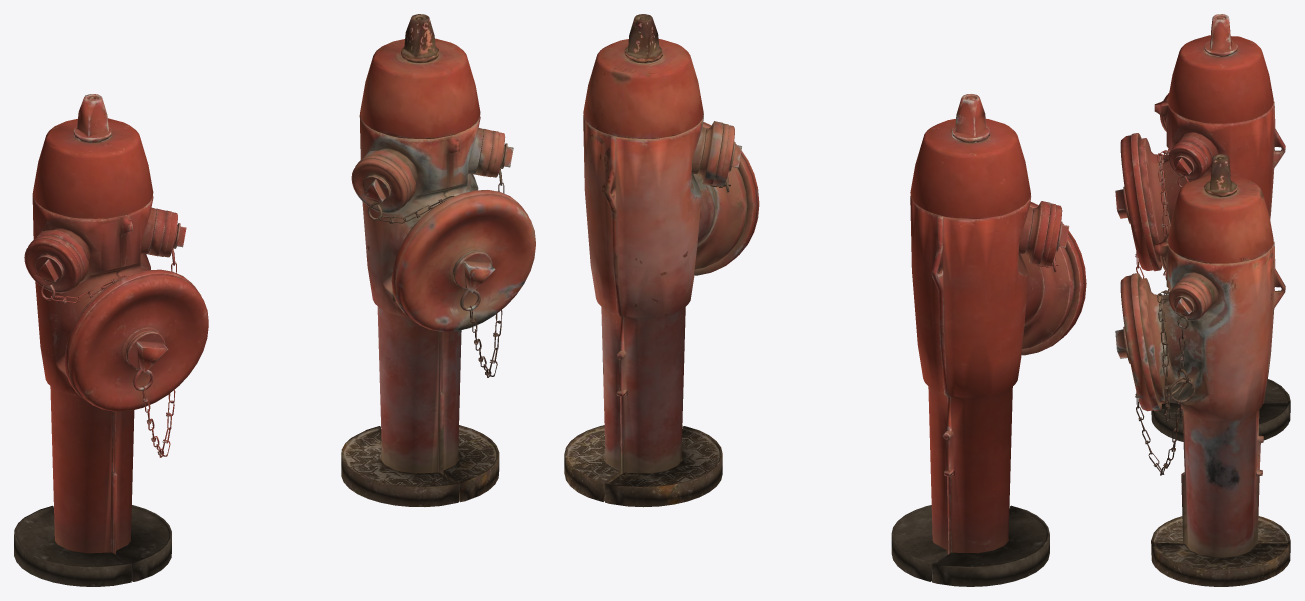
File: fire_hydrant.glb
3 renders of one model, left to right at view 1: azimuth 30°, elevation 25°; view 2: azimuth 150°, elevation 25°; view 3: azimuth 270°, elevation 25°, orthographic. The views are drawn at different scales.
Parts seen in each view (by area): view 1: fire_hydrant_aged, fire_hydrant, fire_hydrant_cap_01, fire_hydrant_cap_01_aged, fire_hydrant_cap_03, fire_hydrant_cap_03_aged, fire_hydrant_chain, fire_hydrant_chain_aged, fire_hydrant_cap_02, fire_hydrant_cap_02_aged; view 2: fire_hydrant, fire_hydrant_aged, fire_hydrant_cap_01, fire_hydrant_cap_01_aged, fire_hydrant_cap_03, fire_hydrant_cap_03_aged; view 3: fire_hydrant_aged, fire_hydrant, fire_hydrant_cap_01, fire_hydrant_cap_01_aged, fire_hydrant_chain_aged, fire_hydrant_cap_02_aged, fire_hydrant_cap_02, fire_hydrant_chain.
Part boxes in pixels (x1,y1,x2,y2): fire_hydrant_aged: (341,14,499,506); fire_hydrant: (14,94,171,586); fire_hydrant_cap_01: (64,269,208,411); fire_hydrant_cap_01_aged: (391,190,535,331); fire_hydrant_cap_03: (24,235,83,293); fire_hydrant_cap_03_aged: (351,155,410,213); fire_hydrant_chain: (40,224,177,457); fire_hydrant_chain_aged: (367,145,504,377); fire_hydrant_cap_02: (158,210,186,257); fire_hydrant_cap_02_aged: (485,130,513,177); fire_hydrant: (891,94,1074,586); fire_hydrant_aged: (564,14,747,507); fire_hydrant_cap_01: (1021,202,1086,355); fire_hydrant_cap_01_aged: (694,122,759,275); fire_hydrant_cap_03: (1039,203,1069,266); fire_hydrant_cap_03_aged: (712,123,741,186); fire_hydrant_aged: (1138,154,1290,586); fire_hydrant: (1138,14,1290,441); fire_hydrant_cap_01: (1115,133,1161,271); fire_hydrant_cap_01_aged: (1115,273,1161,411); fire_hydrant_chain_aged: (1135,289,1195,475); fire_hydrant_cap_02_aged: (1168,281,1208,320); fire_hydrant_cap_02: (1168,141,1208,180); fire_hydrant_chain: (1135,149,1193,280).
Bounding box in the file's own units: 0.8746 × 0.7994 × 0.3173.
Materials: 2 (2 with a texture image).
